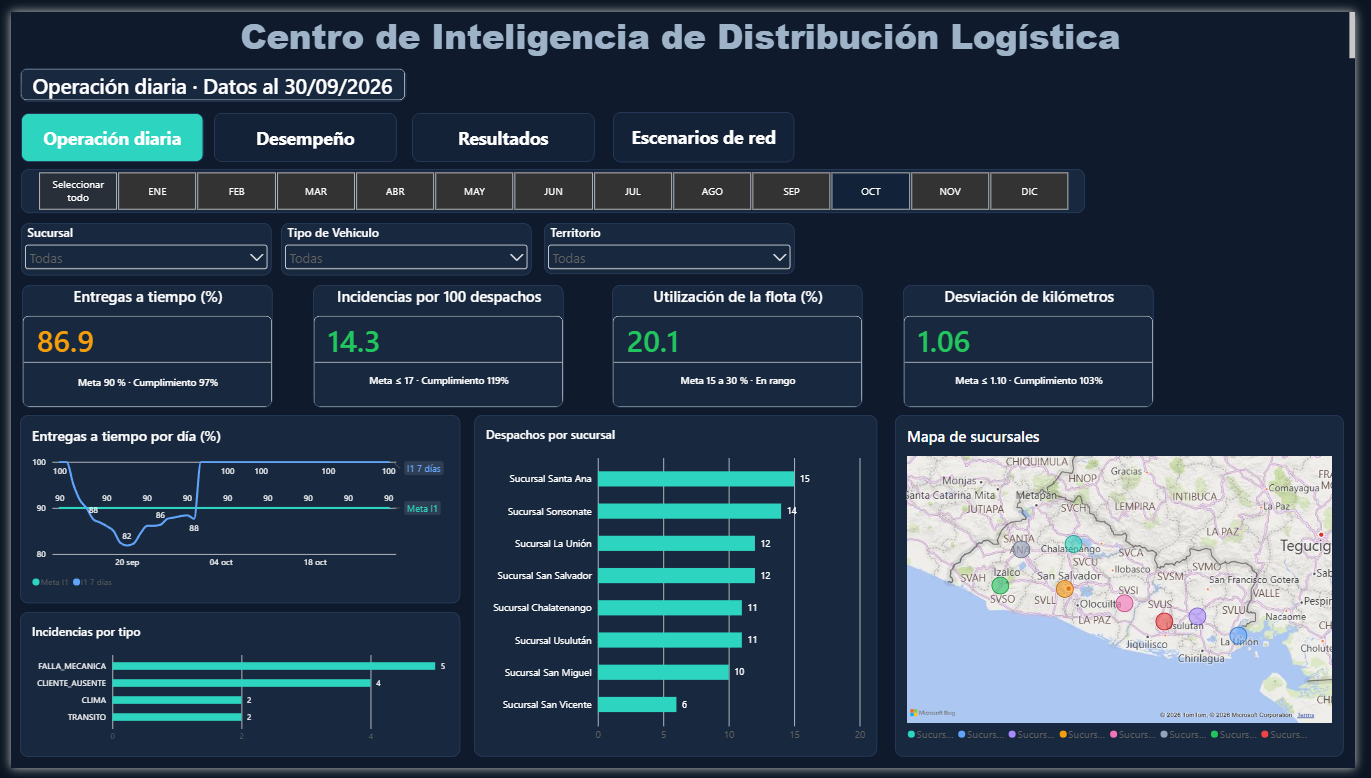

What the dashboard file says about the page in this screenshot:
{"tool":"powerbi","page":{"name":"Operación diaria","canvas":[1920,1080],"ordinal":0},"visuals":[{"type":"actionButton","box":[14.6,143.6,260.7,70.5],"z":0},{"type":"actionButton","box":[290,143.6,260.7,70.5],"z":1000},{"type":"actionButton","box":[573.3,143.6,260.7,70.5],"z":2000},{"type":"actionButton","box":[860.5,142.3,259.4,71.8],"z":3000},{"type":"slicer","fields":{"Values":["Meses.Nombre"]},"box":[14.6,224.8,1520.2,62.5],"z":4000},{"type":"slicer","fields":{"Values":["dw_dim_sucursal.nombre"]},"box":[14.6,301.9,358.3,75],"z":5000},{"type":"slicer","fields":{"Values":["dw_dim_vehiculo.tipo"]},"box":[385.7,301.9,358.3,75],"z":6000},{"type":"slicer","fields":{"Values":["dw_dim_territorio.nombre_territorio"]},"box":[760.8,301.9,358.3,73.3],"z":7000},{"type":"cardVisual","title":"Entregas a tiempo (%)","fields":{"Data":["Medidas.I1"]},"box":[16.3,389.3,358.3,175],"z":8000},{"type":"cardVisual","title":"Incidencias por 100 despachos","fields":{"Data":["Medidas.I2"]},"box":[431.3,389.3,358.3,175],"z":9000},{"type":"cardVisual","title":"Utilización de la flota (%)","fields":{"Data":["Medidas.I3"]},"box":[858.8,389.3,358.3,175],"z":10000},{"type":"cardVisual","title":"Desviación de kilómetros","fields":{"Data":["Medidas.I4"]},"box":[1273.8,389.3,358.3,175],"z":11000},{"type":"cardVisual","fields":{"Data":["Medidas.Subtitulo"]},"box":[13.3,80,551.7,47.5],"z":12000},{"type":"lineChart","title":"Entregas a tiempo por día (%)","fields":{"Category":["dw_dim_tiempo.fecha"],"Y":["Medidas.Meta I1","Medidas.I1 7 días"]},"box":[13.3,575.9,629.1,268.7],"z":13000},{"type":"textbox","box":[0,0,1920,66.7],"z":14000},{"type":"map","title":"Mapa de sucursales","fields":{"Series":["dw_dim_sucursal.nombre"],"X":["dw_dim_sucursal.longitud"],"Y":["dw_dim_sucursal.latitud"]},"box":[1263.5,575.9,641.1,488.1],"z":15000},{"type":"clusteredBarChart","title":"Incidencias por tipo","fields":{"Category":["dw_dim_tipo_incidencia.nombre_tipo"],"Y":["Medidas.Incidencias"]},"box":[13.3,856.6,629.1,207.5],"z":16000},{"type":"clusteredBarChart","title":"Despachos por sucursal","fields":{"Category":["dw_dim_sucursal.nombre"],"Y":["Medidas.Despachos"]},"box":[661,575.9,575.9,488.1],"z":17000}]}

Visuals, with their boxes in screenshot pixels (x1, y1, x2, y2), scaled from the page's 1920x1080 canvas onto the 1371x778 screenshot:
actionButton: locate(10, 103, 197, 154)
actionButton: locate(207, 103, 393, 154)
actionButton: locate(409, 103, 596, 154)
actionButton: locate(614, 103, 800, 154)
slicer - Meses.Nombre: locate(10, 162, 1096, 207)
slicer - dw_dim_sucursal.nombre: locate(10, 217, 266, 272)
slicer - dw_dim_vehiculo.tipo: locate(275, 217, 531, 272)
slicer - dw_dim_territorio.nombre_territorio: locate(543, 217, 799, 270)
"Entregas a tiempo (%)" cardVisual: locate(12, 280, 267, 407)
"Incidencias por 100 despachos" cardVisual: locate(308, 280, 564, 407)
"Utilización de la flota (%)" cardVisual: locate(613, 280, 869, 407)
"Desviación de kilómetros" cardVisual: locate(910, 280, 1165, 407)
cardVisual - Medidas.Subtitulo: locate(9, 58, 403, 92)
"Entregas a tiempo por día (%)" lineChart: locate(9, 415, 459, 608)
textbox: locate(0, 0, 1370, 48)
"Mapa de sucursales" map: locate(902, 415, 1360, 766)
"Incidencias por tipo" clusteredBarChart: locate(9, 617, 459, 767)
"Despachos por sucursal" clusteredBarChart: locate(472, 415, 883, 766)
